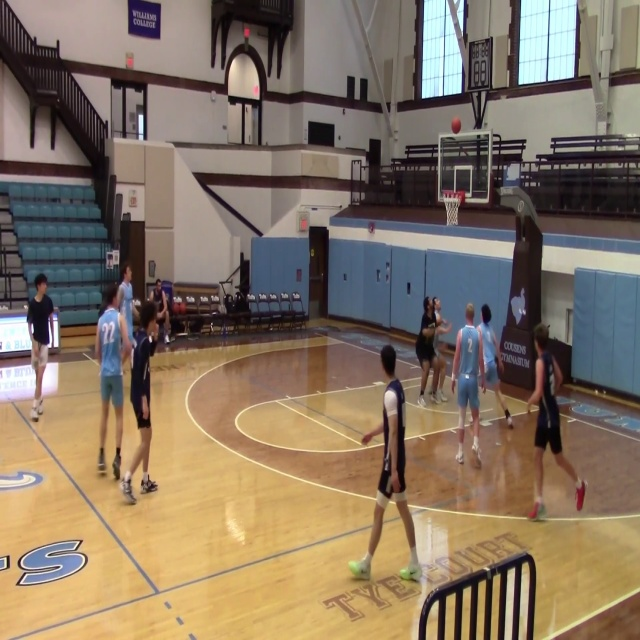Basketball: (451, 117, 461, 134)
